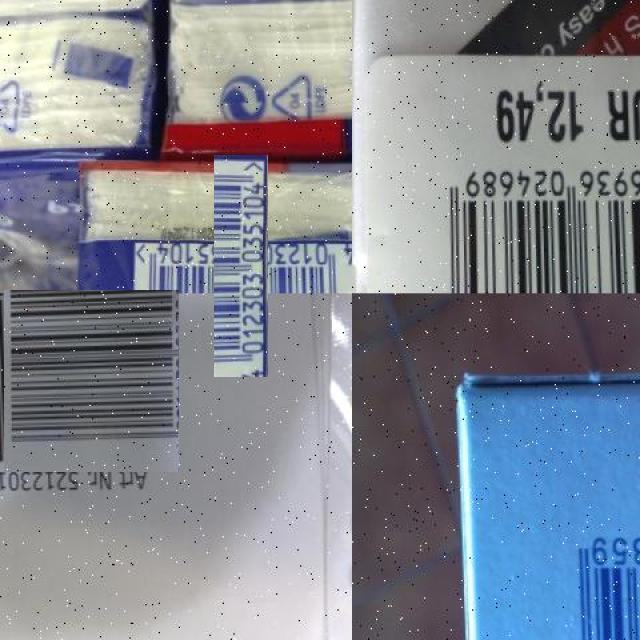Barcode: (415, 147, 640, 293), (2, 291, 181, 470), (171, 197, 310, 335)
